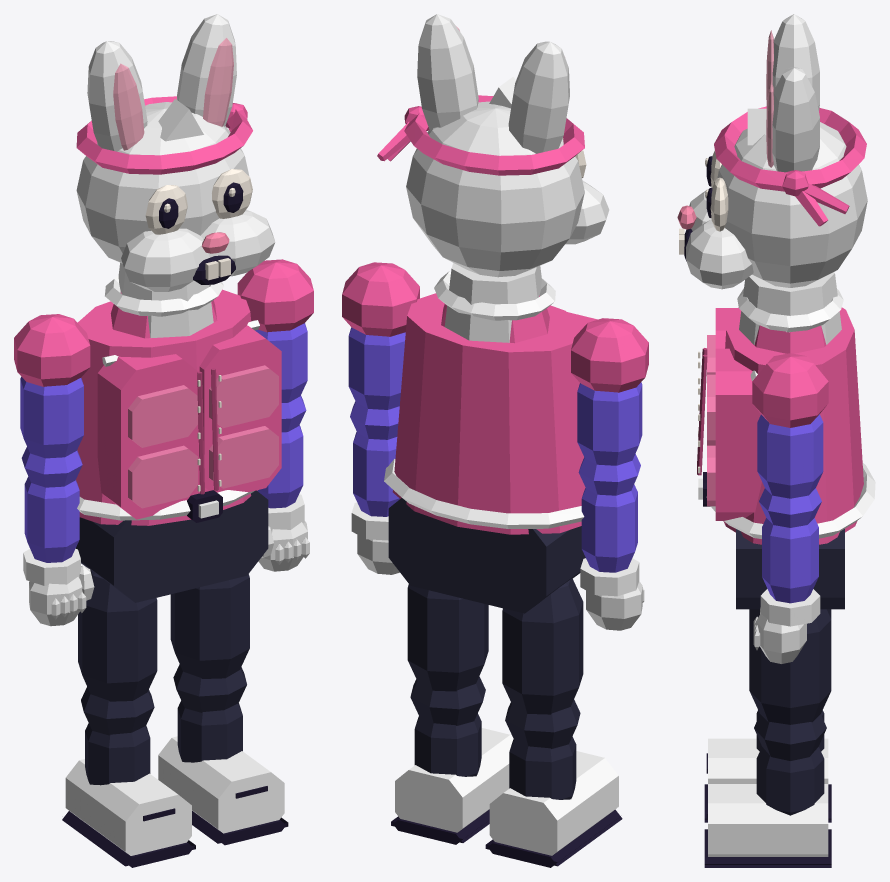
3 renders of one model, left to right at view 1: azimuth 30°, elevation 25°; view 2: azimuth 150°, elevation 25°; view 3: azimuth 270°, elevation 25°, orthographic. The views are drawn at different scales.
Visible parts, largest first — view 1: head_fur, torso_padded_vest, torso_vest_quilt, hips_trousers, thigh_r_trousers, shin_r_trim_belt_boots, shin_l_trim_belt_boots, thigh_l_trousers, forearm_r_shirt_sleeves, shin_l_trousers, shin_r_trousers, upperarm_r_padded_vest (+18 smaller); view 2: torso_padded_vest, head_fur, hips_trousers, thigh_r_trousers, shin_r_trim_belt_boots, thigh_l_trousers, shin_l_trim_belt_boots, forearm_r_shirt_sleeves, shin_r_trousers, shin_l_trousers, torso_trim_belt_boots, head_padded_vest (+12 smaller); view 3: head_fur, torso_padded_vest, shin_l_trim_belt_boots, thigh_l_trousers, shin_l_trousers, forearm_l_shirt_sleeves, head_padded_vest, upperarm_l_shirt_sleeves, upperarm_l_padded_vest, hips_trousers, torso_trim_belt_boots, torso_fur_hands (+9 smaller).
Boxes of the visible parts, x1,y1,x2,y2 form: head_fur: (76, 14, 275, 291); torso_padded_vest: (76, 289, 281, 525); torso_vest_quilt: (128, 365, 278, 508); hips_trousers: (75, 490, 268, 602); thigh_r_trousers: (78, 569, 157, 701); shin_r_trim_belt_boots: (65, 759, 191, 855); shin_l_trim_belt_boots: (158, 736, 284, 833); thigh_l_trousers: (170, 574, 249, 678); forearm_r_shirt_sleeves: (21, 447, 82, 562); shin_l_trousers: (173, 664, 246, 762); shin_r_trousers: (81, 687, 154, 785); upperarm_r_padded_vest: (14, 314, 90, 386); torso_padded_vest: (392, 293, 597, 534); head_fur: (406, 14, 609, 277); hips_trousers: (388, 498, 585, 613); thigh_r_trousers: (502, 578, 583, 714); shin_r_trim_belt_boots: (489, 751, 618, 855); thigh_l_trousers: (407, 584, 488, 691); shin_l_trim_belt_boots: (395, 728, 513, 832); forearm_r_shirt_sleeves: (578, 454, 640, 572); shin_r_trousers: (505, 699, 580, 799); shin_l_trousers: (410, 676, 485, 776); torso_trim_belt_boots: (384, 271, 584, 528); head_padded_vest: (377, 95, 584, 175); head_fur: (686, 14, 867, 289); torso_padded_vest: (715, 307, 863, 544); shin_l_trim_belt_boots: (708, 784, 828, 856); thigh_l_trousers: (749, 609, 831, 724); shin_l_trousers: (754, 714, 826, 815); forearm_l_shirt_sleeves: (759, 488, 821, 603); head_padded_vest: (714, 106, 866, 226); upperarm_l_shirt_sleeves: (757, 414, 823, 498); upperarm_l_padded_vest: (752, 353, 828, 427); hips_trousers: (736, 529, 844, 609); torso_trim_belt_boots: (698, 288, 875, 538); torso_fur_hands: (739, 272, 841, 344).
Bounding box in the file's own units: 0.7607 × 1.96 × 0.4446.
